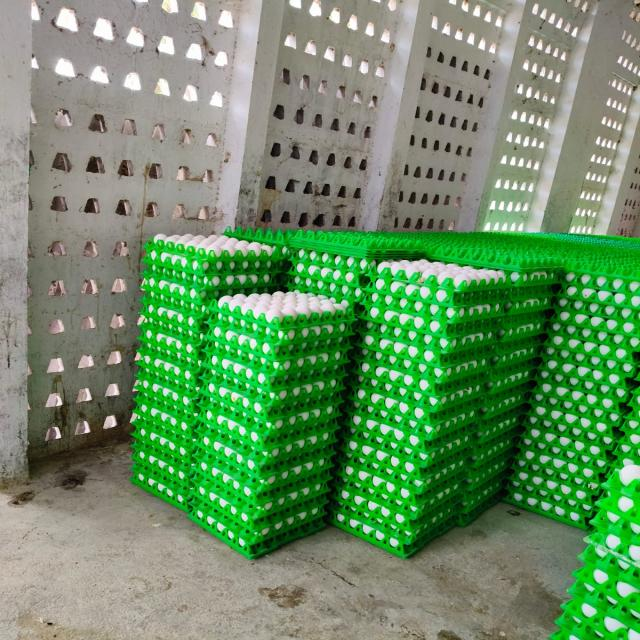egg_tray: (194, 334, 336, 498), (332, 429, 465, 548), (551, 466, 639, 640), (331, 432, 465, 544), (361, 263, 493, 375), (190, 452, 331, 554), (342, 388, 480, 480), (193, 434, 332, 524), (194, 395, 338, 479), (514, 399, 622, 511), (194, 413, 336, 495), (194, 416, 336, 496), (191, 460, 327, 542), (340, 398, 472, 480), (194, 428, 332, 504), (354, 307, 496, 380), (361, 279, 499, 351), (201, 350, 347, 418), (190, 473, 327, 544), (343, 406, 476, 478), (332, 456, 463, 529), (366, 260, 506, 327), (333, 449, 465, 519), (192, 455, 331, 521), (357, 333, 489, 401), (330, 475, 461, 543), (533, 337, 636, 422), (514, 416, 613, 504), (330, 476, 460, 543), (188, 494, 324, 558), (370, 260, 508, 322), (209, 291, 353, 350), (507, 442, 605, 528), (198, 398, 339, 457), (194, 420, 337, 477), (330, 494, 458, 557), (196, 414, 337, 471), (143, 234, 282, 291), (345, 387, 479, 446), (557, 544, 639, 640), (201, 354, 346, 408), (351, 350, 486, 408), (131, 386, 194, 508), (343, 389, 480, 445), (425, 233, 578, 283), (341, 420, 470, 479), (142, 255, 271, 313), (359, 297, 495, 352), (202, 358, 345, 410), (366, 305, 500, 360), (523, 402, 624, 472), (426, 233, 578, 279), (557, 273, 639, 357), (354, 332, 490, 382), (345, 385, 482, 434), (354, 362, 484, 412), (209, 303, 353, 348), (146, 236, 280, 284), (346, 379, 482, 425), (370, 259, 510, 303), (199, 394, 339, 438), (330, 511, 455, 558), (205, 333, 348, 374), (140, 276, 265, 322), (206, 309, 278, 388), (521, 416, 618, 474), (145, 234, 282, 275), (542, 326, 636, 385), (135, 308, 204, 384), (141, 270, 271, 310), (551, 581, 639, 640), (138, 277, 205, 353), (218, 292, 349, 329), (482, 336, 541, 417), (590, 465, 639, 562), (132, 416, 192, 494), (514, 440, 607, 490), (425, 234, 545, 272), (466, 408, 521, 490), (574, 542, 639, 611), (223, 227, 294, 290), (289, 249, 370, 302), (138, 300, 203, 366), (525, 404, 626, 446), (132, 392, 196, 458), (477, 362, 534, 436), (538, 359, 636, 402), (541, 340, 636, 384), (504, 483, 592, 530), (290, 231, 425, 261), (497, 274, 554, 342), (459, 450, 511, 524), (134, 369, 199, 428), (167, 260, 276, 295), (501, 271, 557, 339), (131, 446, 190, 510), (465, 418, 517, 490), (132, 390, 194, 450), (268, 254, 347, 300), (522, 432, 608, 474), (549, 321, 639, 361), (131, 405, 193, 463), (545, 412, 626, 456), (140, 264, 208, 316), (532, 386, 627, 423), (135, 328, 201, 381), (134, 388, 196, 444), (556, 295, 639, 336), (132, 393, 195, 446), (268, 257, 347, 299), (136, 345, 199, 397), (563, 236, 637, 280), (486, 336, 541, 395), (132, 416, 193, 468), (141, 272, 215, 314), (473, 387, 529, 441), (289, 249, 369, 286), (512, 472, 599, 506), (290, 249, 374, 284), (268, 294, 345, 332), (492, 313, 546, 367), (141, 298, 208, 341), (131, 462, 190, 510), (134, 368, 199, 411), (456, 472, 506, 526), (138, 322, 202, 364), (566, 271, 639, 307), (477, 382, 530, 431), (461, 450, 512, 500), (500, 292, 555, 335), (223, 226, 295, 258), (141, 234, 193, 276), (287, 275, 361, 304), (455, 485, 503, 526), (614, 388, 639, 465), (353, 388, 410, 420), (505, 269, 563, 300), (504, 284, 554, 316), (486, 362, 535, 394), (497, 311, 547, 342), (141, 238, 181, 276), (505, 290, 553, 319), (141, 239, 173, 281), (232, 296, 269, 328), (504, 268, 559, 288), (614, 428, 639, 465), (210, 349, 245, 372), (209, 506, 233, 530), (363, 350, 387, 373), (325, 361, 343, 381), (247, 362, 275, 374), (381, 468, 404, 481), (211, 311, 228, 328), (388, 365, 404, 381), (143, 323, 158, 339), (318, 423, 334, 434), (483, 303, 499, 313), (411, 407, 423, 420), (363, 460, 381, 468), (374, 531, 385, 542), (428, 412, 439, 422), (413, 370, 424, 380), (495, 464, 507, 473), (507, 273, 523, 279), (242, 532, 253, 540), (261, 530, 271, 538), (583, 607, 594, 614), (415, 269, 422, 280), (360, 529, 372, 535), (570, 514, 580, 521), (162, 341, 172, 348), (552, 632, 563, 638), (190, 236, 201, 242), (396, 378, 404, 386), (168, 235, 180, 240), (441, 278, 451, 284), (413, 262, 423, 268), (333, 336, 340, 344), (471, 300, 478, 308), (382, 267, 390, 274), (550, 323, 558, 330), (484, 290, 490, 299), (354, 390, 361, 397), (143, 252, 149, 260), (559, 248, 565, 256), (477, 387, 482, 396), (370, 336, 374, 347), (301, 334, 308, 340), (610, 537, 617, 543), (176, 339, 182, 346), (394, 538, 401, 544), (367, 429, 381, 432), (447, 384, 454, 390), (363, 299, 368, 307), (443, 307, 455, 310), (220, 406, 226, 412), (285, 512, 290, 519), (390, 543, 397, 548), (594, 421, 605, 424), (270, 512, 276, 517), (200, 505, 205, 511), (398, 316, 404, 321), (148, 250, 154, 255), (497, 395, 501, 402), (411, 285, 420, 288), (192, 340, 197, 345), (357, 423, 362, 428), (484, 316, 490, 320), (140, 434, 148, 437), (536, 407, 544, 410), (548, 412, 559, 414), (311, 507, 315, 512), (222, 301, 227, 305), (281, 418, 286, 422), (165, 259, 170, 263), (179, 471, 184, 475), (289, 343, 295, 346), (285, 360, 291, 363), (588, 634, 597, 636), (581, 376, 587, 379), (316, 356, 318, 364), (535, 394, 539, 398), (580, 248, 582, 256), (531, 416, 535, 420), (399, 283, 404, 286), (274, 523, 279, 526), (210, 295, 215, 298), (145, 416, 150, 419), (445, 372, 450, 375), (352, 531, 357, 534), (481, 362, 485, 365), (339, 356, 342, 360), (251, 462, 254, 466), (290, 472, 293, 476), (272, 362, 278, 364), (189, 260, 191, 266), (154, 418, 157, 422), (516, 332, 519, 336), (336, 521, 339, 525), (626, 450, 632, 452), (434, 420, 438, 423), (620, 560, 624, 563), (465, 404, 468, 408), (459, 381, 463, 384), (403, 362, 406, 366), (365, 384, 370, 386), (228, 505, 230, 510), (567, 414, 572, 416), (214, 282, 219, 284), (545, 433, 550, 435), (416, 408, 421, 410), (440, 360, 443, 363), (293, 408, 296, 411), (148, 241, 151, 244), (243, 445, 246, 448), (163, 393, 166, 396), (203, 239, 206, 242), (223, 298, 226, 301), (281, 334, 284, 337), (423, 293, 427, 295), (141, 457, 143, 461), (178, 350, 180, 354), (403, 548, 407, 550), (350, 518, 354, 520), (141, 434, 145, 436), (274, 311, 282, 312), (434, 430, 438, 432), (583, 330, 590, 331), (569, 346, 572, 348), (148, 240, 151, 242), (430, 407, 432, 410), (224, 498, 227, 500), (337, 351, 339, 354), (636, 549, 638, 552), (144, 258, 147, 260), (370, 341, 372, 344), (165, 465, 167, 468), (379, 356, 381, 359), (430, 414, 433, 416), (291, 316, 293, 319), (315, 320, 317, 323), (452, 405, 454, 408), (465, 385, 467, 388), (281, 385, 284, 387), (165, 254, 170, 255), (572, 346, 574, 348), (180, 398, 182, 400), (195, 264, 197, 266), (236, 532, 238, 534), (282, 524, 284, 526), (335, 351, 337, 353), (606, 468, 608, 470), (416, 314, 418, 316), (475, 292, 477, 294), (472, 294, 476, 295), (422, 261, 426, 262), (592, 580, 594, 582), (222, 301, 224, 303), (312, 320, 314, 322), (362, 431, 364, 433), (507, 274, 508, 278), (479, 399, 480, 403), (218, 478, 220, 480), (592, 487, 595, 488), (366, 525, 369, 526), (438, 372, 439, 375), (398, 448, 399, 451), (427, 426, 428, 429), (229, 471, 231, 472), (409, 285, 411, 286), (445, 400, 447, 401), (516, 468, 517, 470), (441, 358, 442, 360), (234, 514, 236, 515), (229, 522, 230, 524), (158, 342, 160, 343), (296, 524, 297, 526), (284, 345, 286, 346), (418, 234, 419, 236), (524, 478, 526, 479), (507, 337, 508, 339), (613, 377, 614, 379), (183, 316, 185, 317), (178, 348, 179, 350), (465, 280, 466, 282), (498, 278, 499, 280), (406, 267, 408, 268), (379, 266, 380, 268), (532, 430, 534, 431), (620, 580, 621, 582), (184, 447, 186, 448), (523, 399, 524, 401), (404, 370, 405, 372), (281, 333, 283, 334), (573, 328, 574, 330), (261, 425, 263, 426), (291, 403, 292, 404), (333, 401, 334, 402), (418, 296, 419, 297), (396, 292, 397, 293), (436, 361, 437, 362), (572, 505, 573, 506), (291, 525, 292, 526), (581, 607, 582, 608), (465, 276, 466, 277), (609, 456, 610, 457), (342, 520, 343, 521), (232, 474, 233, 474), (403, 392, 403, 394), (414, 383, 415, 383), (617, 266, 617, 266), (538, 496, 539, 496), (190, 234, 190, 235), (541, 288, 541, 288), (185, 350, 186, 350), (302, 343, 304, 343), (402, 314, 405, 314), (581, 482, 581, 483), (423, 234, 423, 235), (551, 399, 552, 399), (369, 432, 370, 432), (271, 263, 272, 263), (238, 363, 243, 363), (212, 532, 214, 532), (496, 390, 497, 390), (366, 336, 369, 336), (347, 454, 348, 454), (428, 263, 432, 263), (512, 268, 513, 268), (615, 592, 616, 592), (178, 452, 180, 452), (172, 449, 172, 450), (212, 327, 212, 328), (321, 321, 321, 321), (287, 312, 288, 312), (281, 456, 281, 457), (388, 432, 388, 432), (391, 430, 392, 430), (437, 428, 438, 428), (465, 383, 465, 383), (392, 356, 392, 357), (634, 381, 635, 381), (620, 343, 623, 343), (626, 339, 628, 339), (276, 420, 276, 421)
